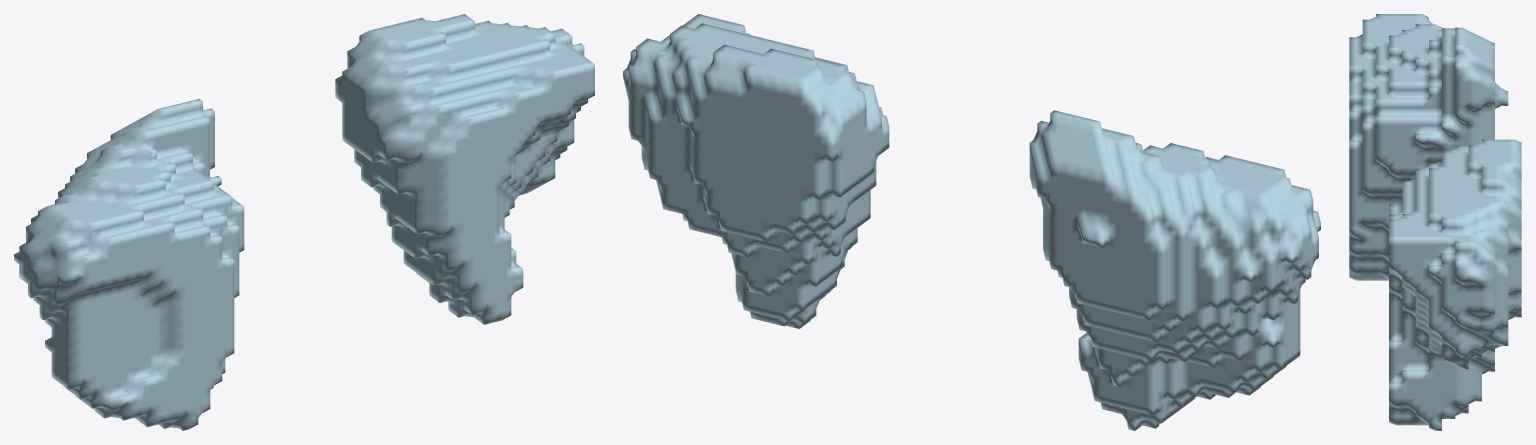
The model's file is region-12.glb.
3 renders of one model, left to right at view 1: azimuth 30°, elevation 25°; view 2: azimuth 150°, elevation 25°; view 3: azimuth 270°, elevation 25°, orthographic. The views are drawn at different scales.
Parts seen in each view (by area): view 1: digimouse-volume:12; view 2: digimouse-volume:12; view 3: digimouse-volume:12.
Boxes of the visible parts, <box> form: digimouse-volume:12: <box>14,14,594,430</box>; digimouse-volume:12: <box>623,14,1320,430</box>; digimouse-volume:12: <box>1349,14,1521,430</box>.
Bounding box in the file's own units: 0.0098 × 0.0046 × 0.0026.
